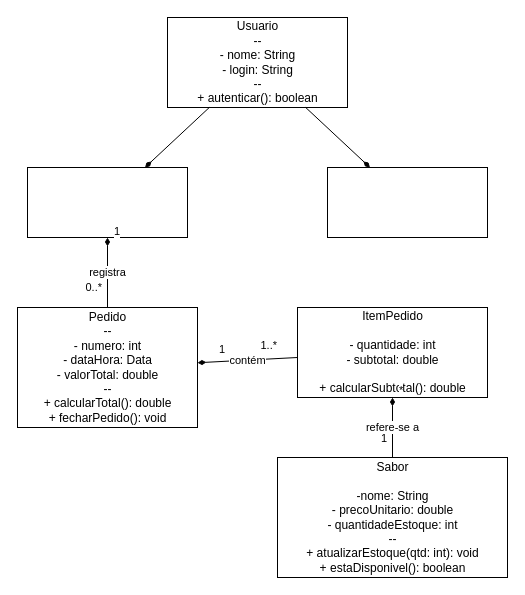
The diagram is 525 pixels wide and 595 high, and some of its shapes have lost their labels. The centre of each missing label's shape, as x and y in pixels:
Atendente: (x=107, y=202)
Gerente: (x=407, y=202)
